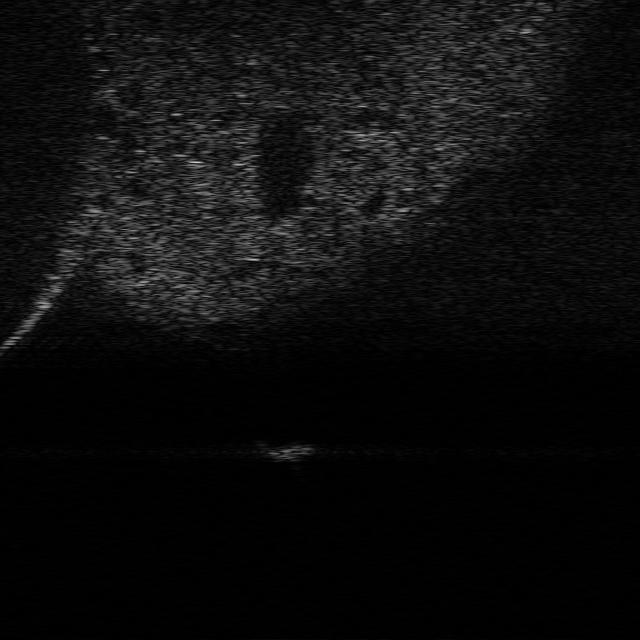cube: (248, 437, 314, 462)
